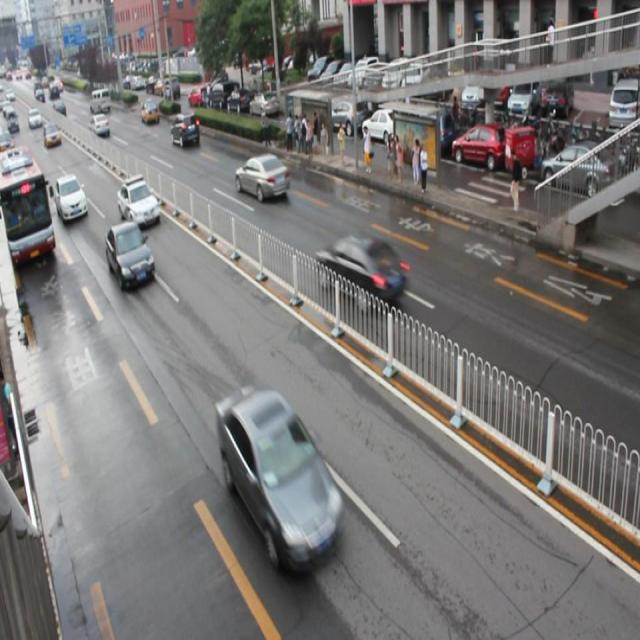car: (216, 385, 344, 577), (315, 237, 407, 311), (106, 221, 155, 289), (235, 153, 289, 201), (117, 176, 161, 227), (56, 174, 88, 222), (170, 112, 200, 146)
van: (1, 146, 55, 264)
